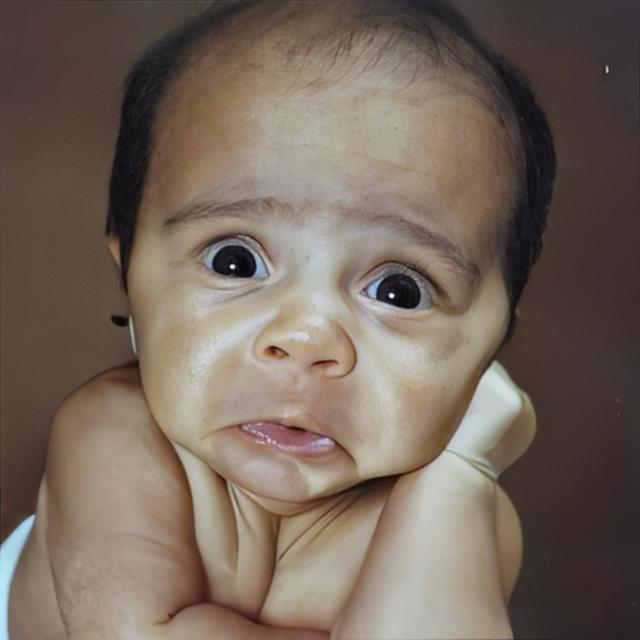fear: (130, 0, 530, 505)
